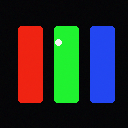0 point: (55, 39, 61, 45)
